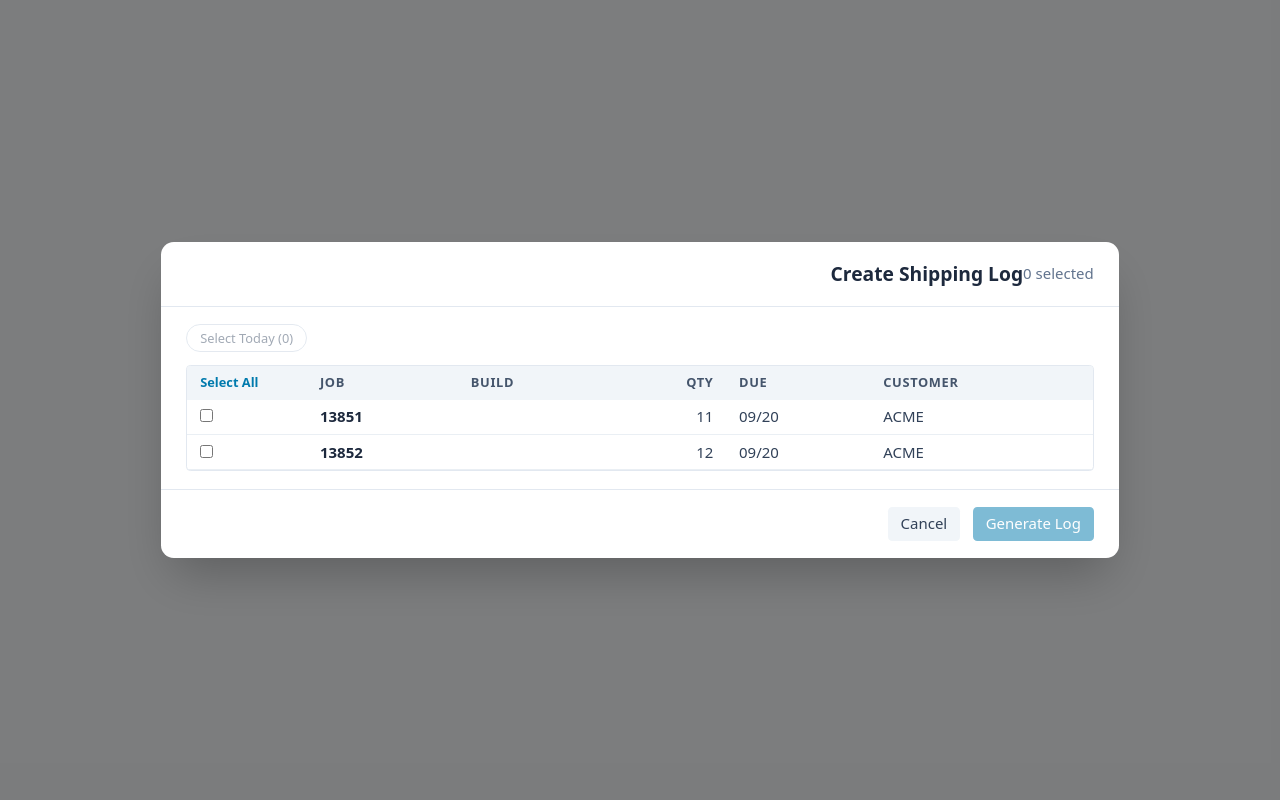
Test: CreateShippingLogModal › toggles between Select All and Deselect All
The image size is (1280, 800).
Click the button with test id "shipping-log-toggle-all" at (229, 383), box x1=200 y1=374 x2=258 y2=391
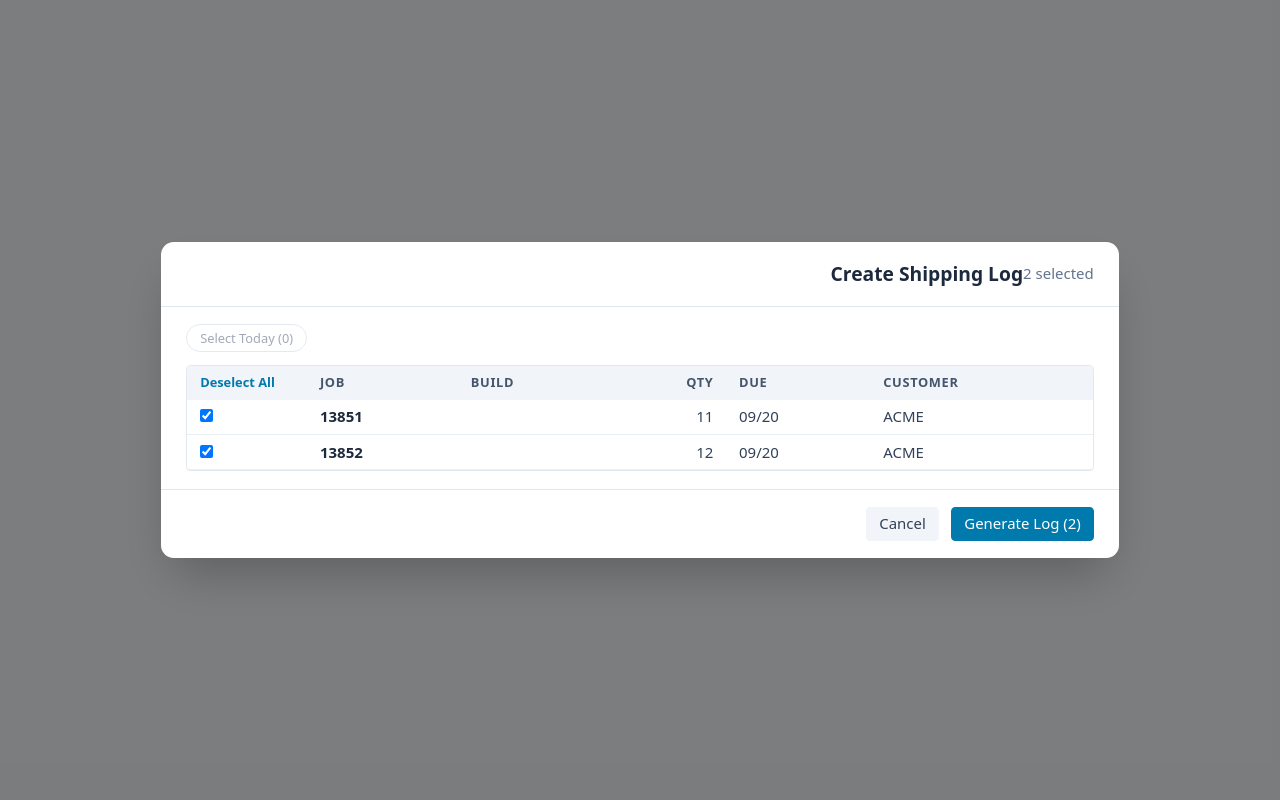
Result: the button with test id "shipping-log-toggle-all" reads "Deselect All"
Result: the button with test id "shipping-log-generate" is enabled at x1=951 y1=507 x2=1094 y2=541
Result: the button with test id "shipping-log-generate" reads "Generate Log (2)" at x1=951 y1=507 x2=1094 y2=541
Click the button with test id "shipping-log-toggle-all" at (237, 383), box x1=200 y1=374 x2=275 y2=391
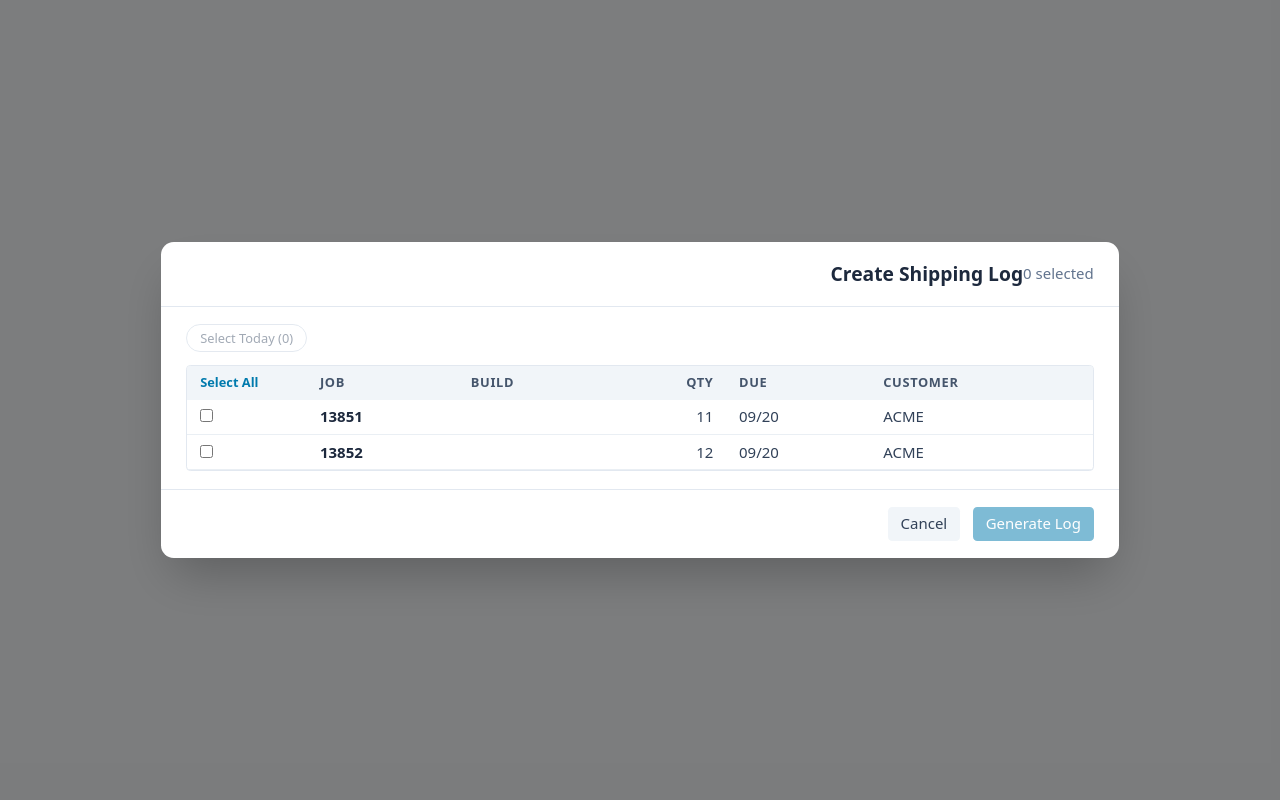
Result: the button with test id "shipping-log-toggle-all" reads "Select All" at x1=200 y1=374 x2=258 y2=391
Result: the button with test id "shipping-log-generate" is disabled at x1=973 y1=507 x2=1094 y2=541
